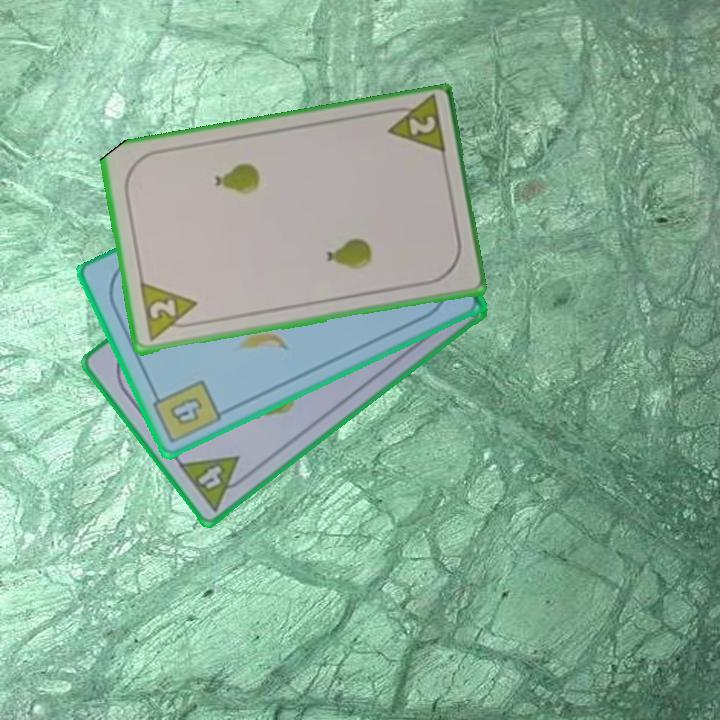2p: (380, 95, 448, 160), (136, 280, 203, 345)
4b: (148, 376, 225, 447)
4p: (175, 452, 255, 515)
